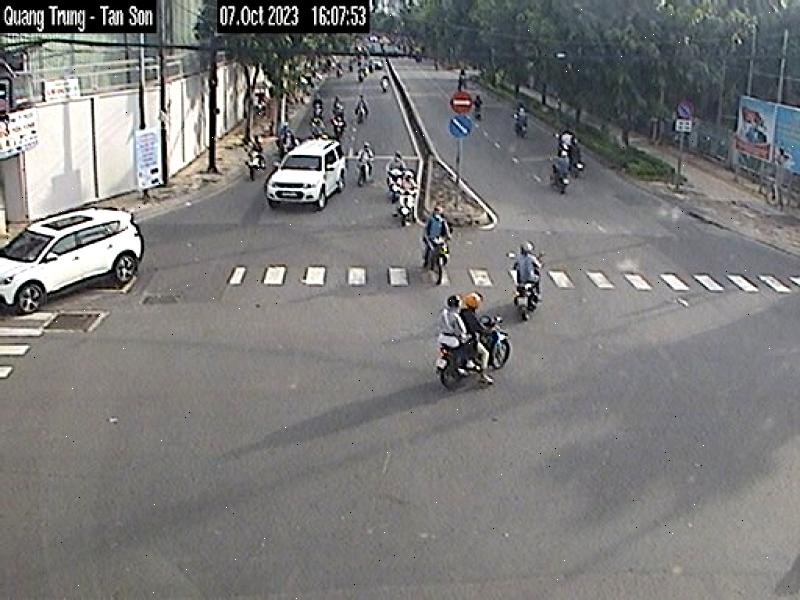car: (0, 207, 147, 320), (266, 139, 349, 209)
motorcycle: (437, 314, 514, 393), (424, 232, 451, 285)
